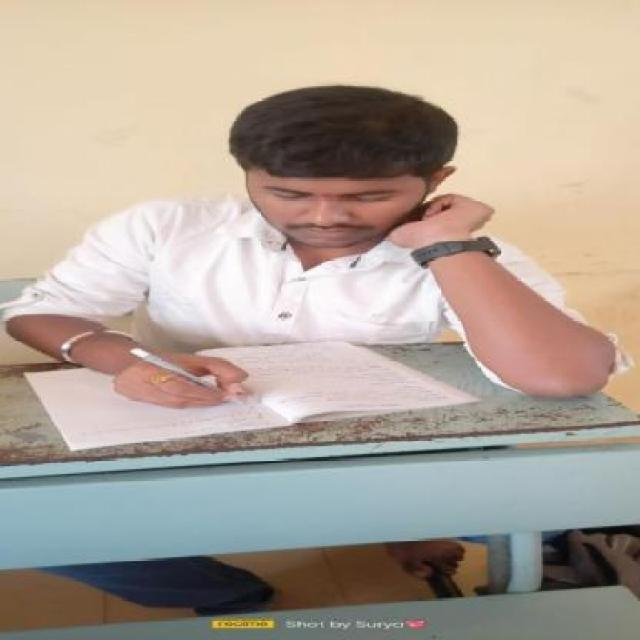good: (0, 82, 640, 450)
